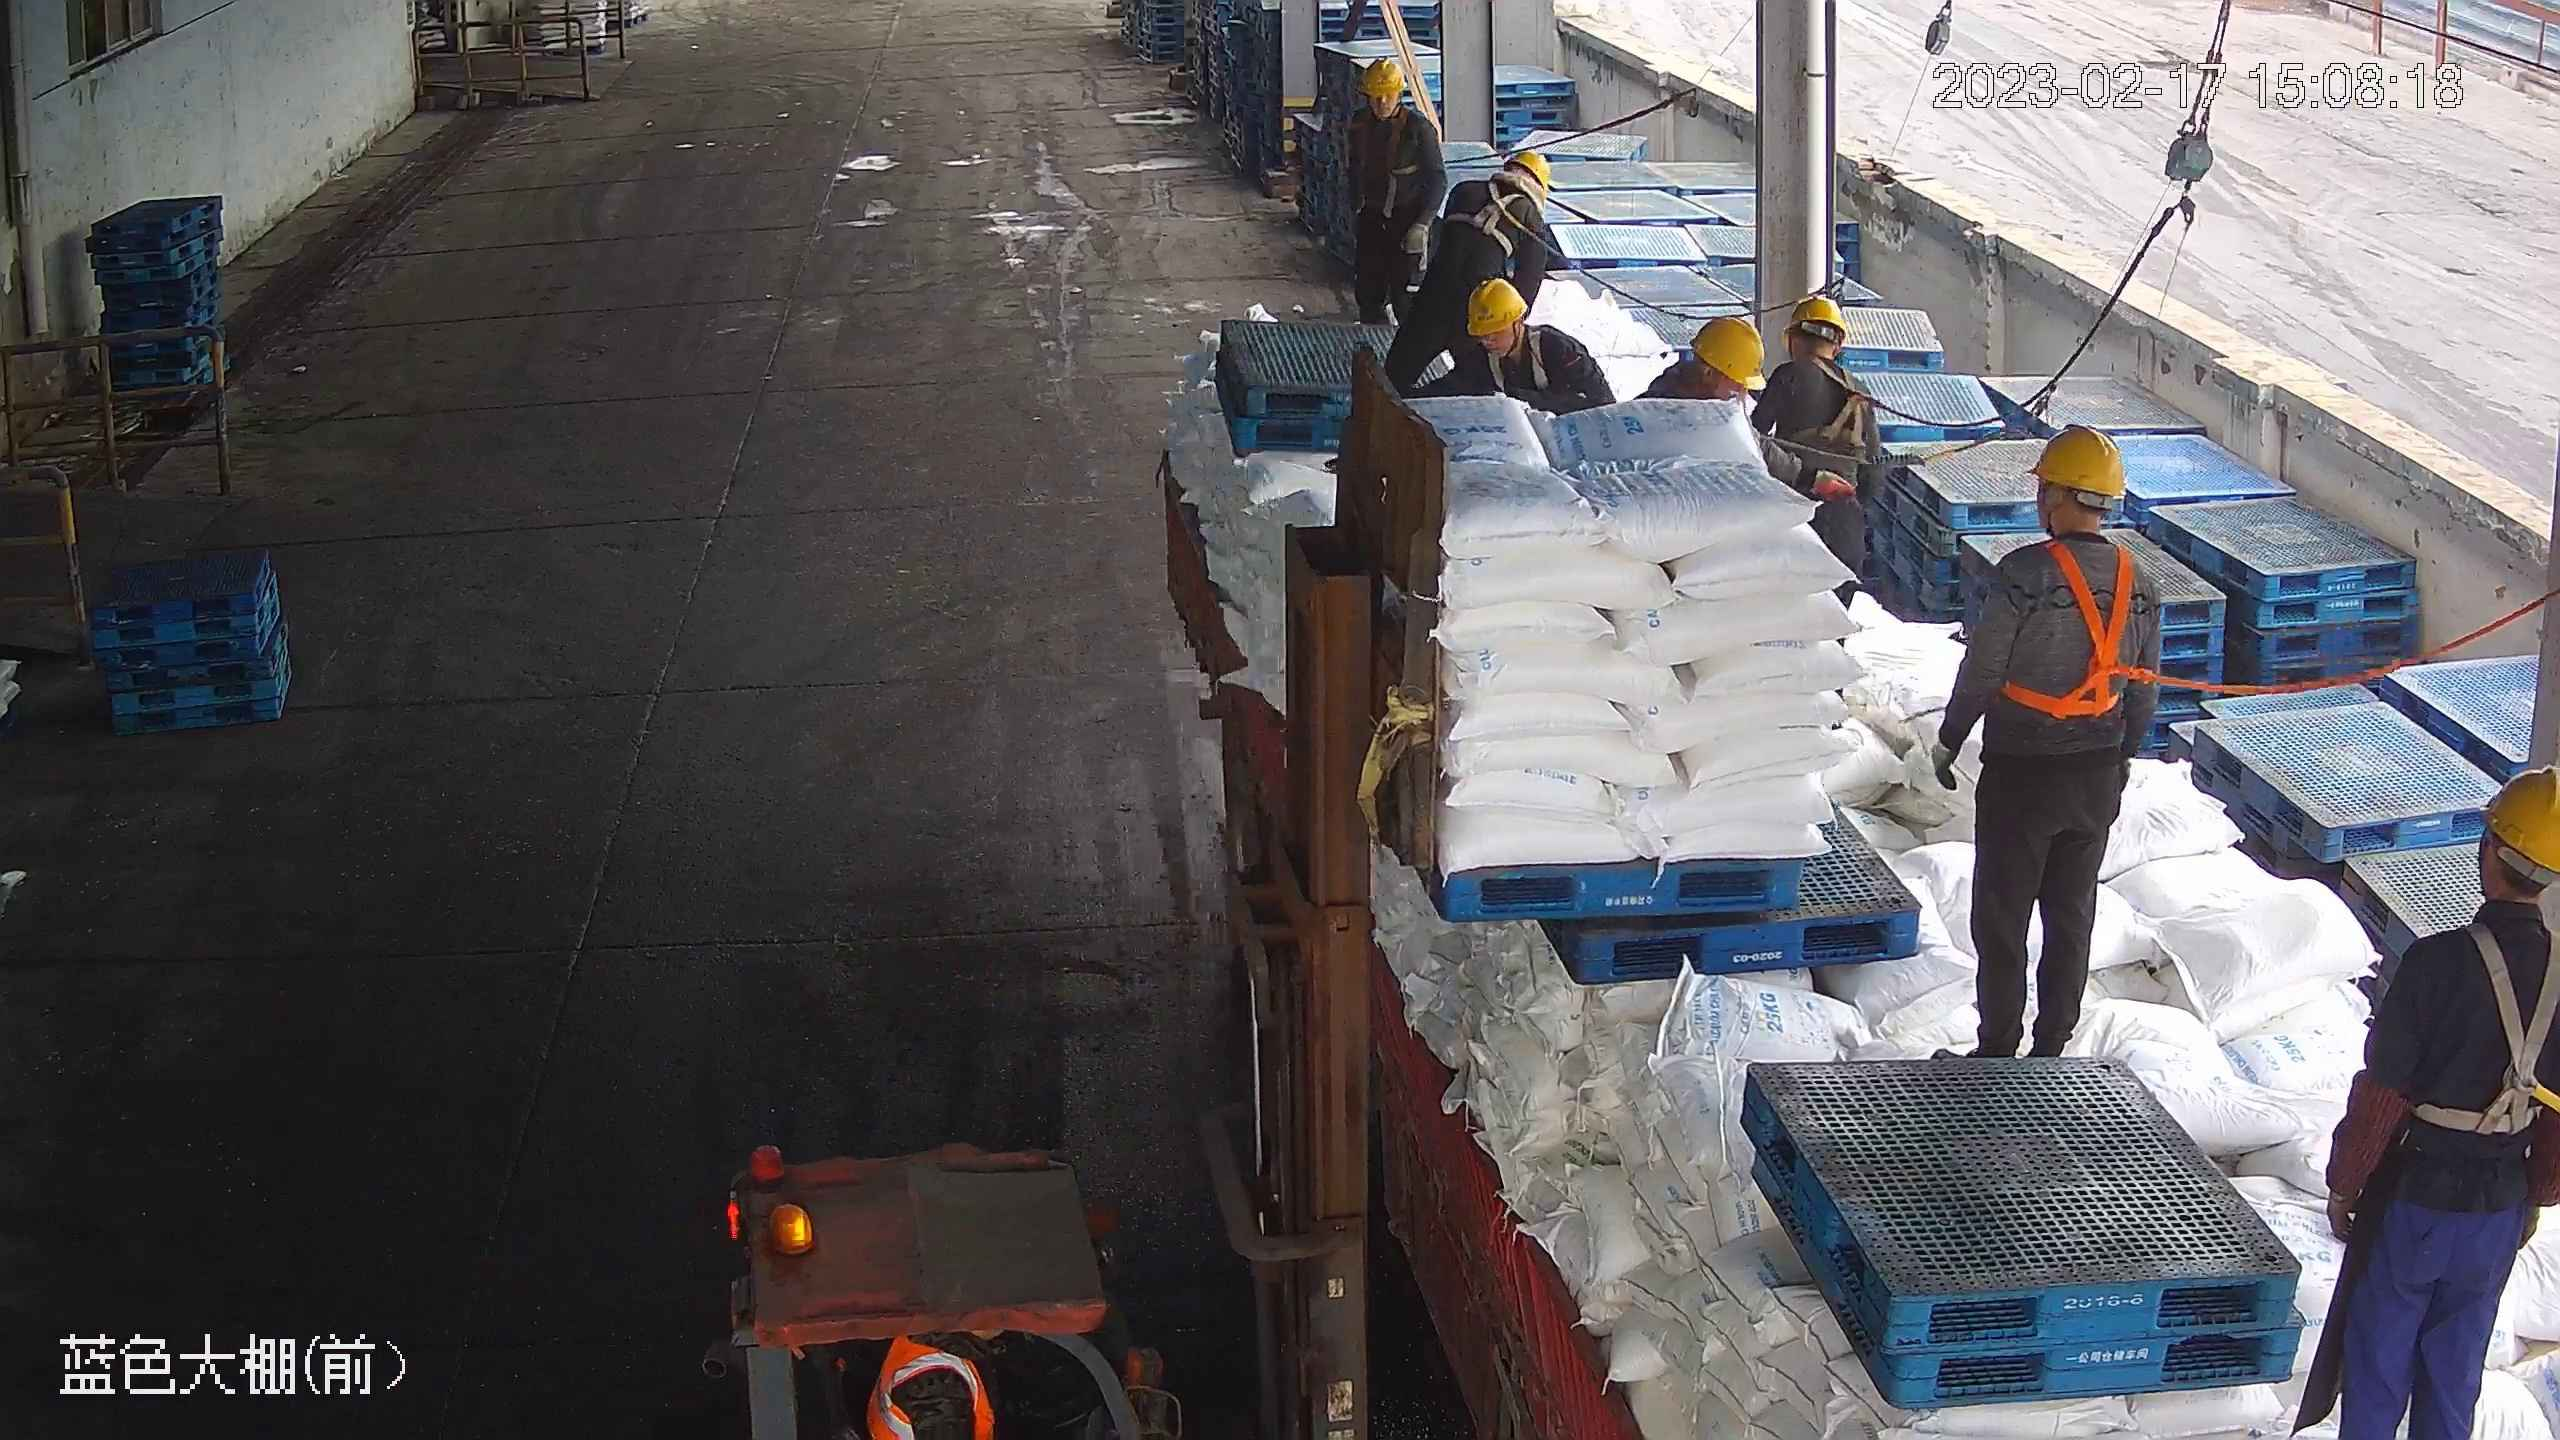belt: (2398, 920, 2560, 1147), (1992, 539, 2183, 727), (1782, 352, 1885, 454), (1364, 111, 1425, 210), (1451, 180, 1522, 252), (1473, 334, 1561, 392)
head: (2374, 772, 2560, 1050), (1987, 423, 2158, 652), (1752, 296, 1879, 439), (1465, 275, 1598, 399), (1427, 146, 1549, 265), (1344, 56, 1436, 160)
helmet: (2029, 421, 2126, 506), (2482, 770, 2560, 874), (1691, 312, 1766, 391), (1465, 274, 1529, 336), (1778, 295, 1848, 350), (1501, 152, 1551, 195), (1360, 57, 1409, 99)
people: (2288, 766, 2560, 1440), (1930, 420, 2164, 1064), (1753, 294, 1881, 733), (1384, 147, 1552, 391), (1344, 58, 1451, 326)
truck: (1164, 408, 2560, 1440)
